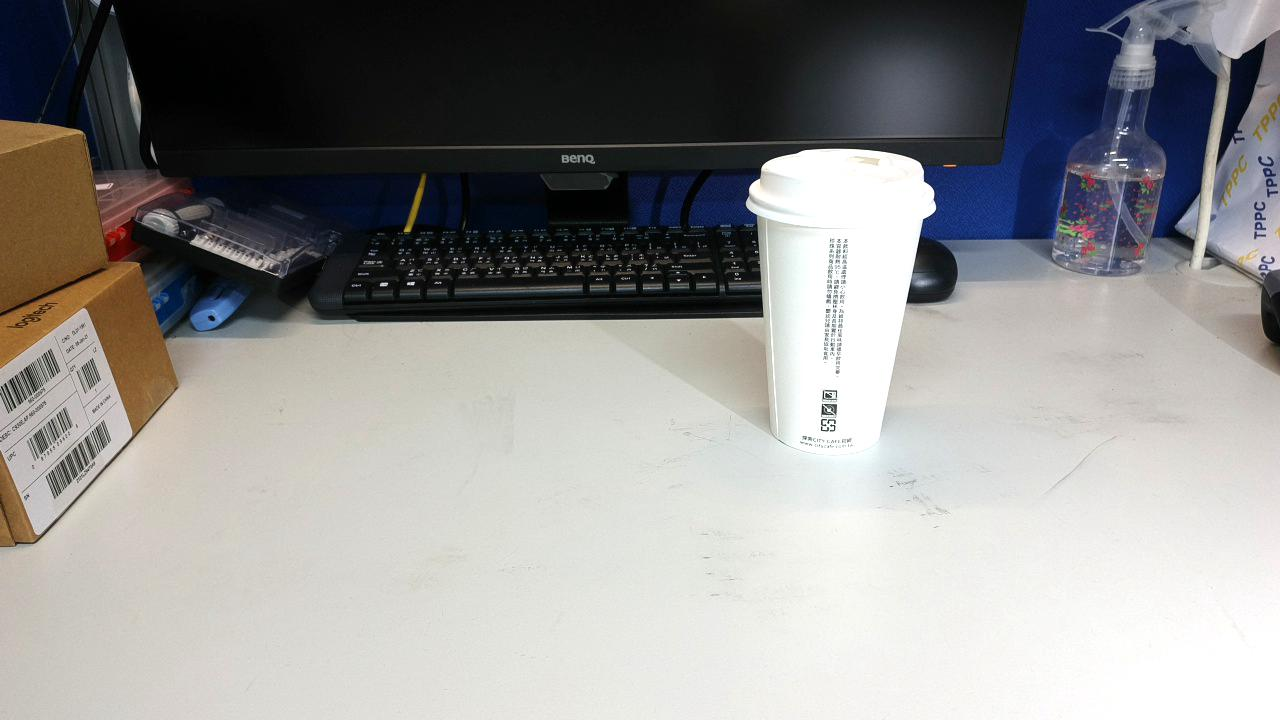columnar: (805, 220, 986, 419)
grip: (748, 247, 808, 354)
